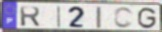2: (67, 6, 88, 29)
C: (113, 7, 135, 30)
G: (137, 7, 158, 30)
I: (95, 6, 102, 30), (57, 6, 62, 29)
R: (19, 6, 42, 27)
